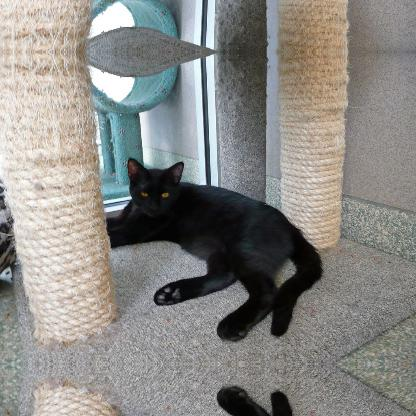Cat: (104, 157, 324, 343)
